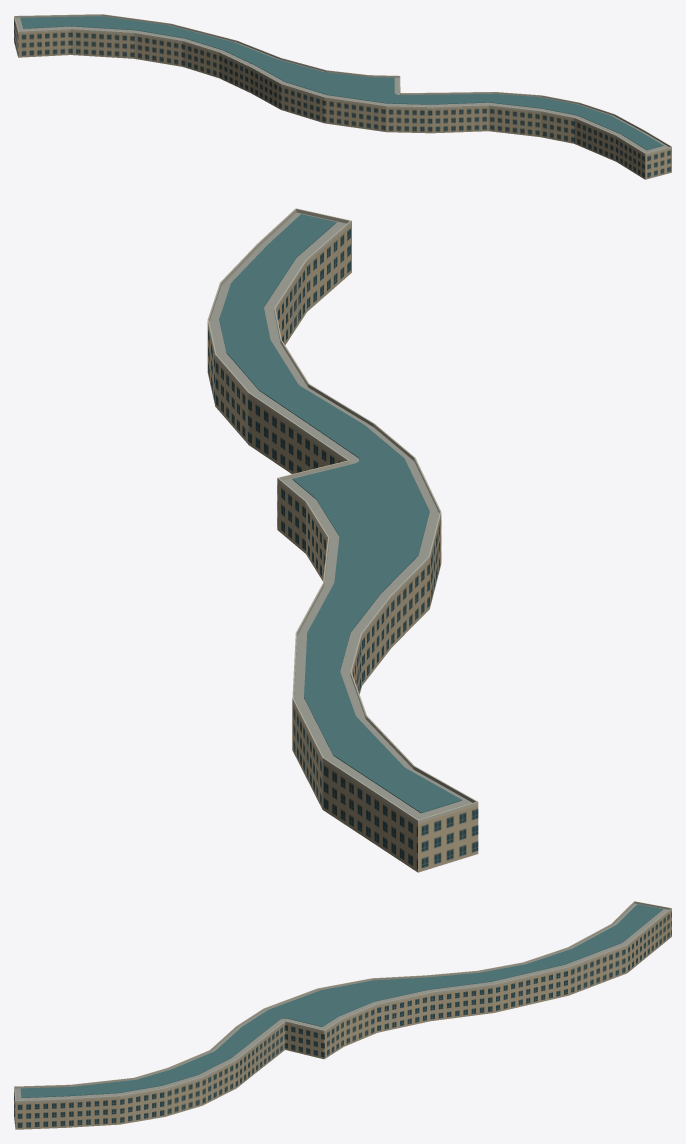
3 views of the same model, one above another, from view 1: azimuth 30°, elevation 25°; view 2: azimuth 150°, elevation 25°; view 3: azimuth 270°, elevation 25° (orthographic). The views are drawn at different scales.
Visible parts, largest first — view 1: B12_arcade, B12_arcade_canopy, B12_arcade_parapet; view 2: B12_arcade, B12_arcade_canopy, B12_arcade_parapet; view 3: B12_arcade, B12_arcade_canopy, B12_arcade_parapet.
Boxes of the visible parts, x1=… form: B12_arcade: x1=14, y1=16, x2=671, y2=179; B12_arcade_canopy: x1=20, y1=16, x2=663, y2=150; B12_arcade_parapet: x1=14, y1=14, x2=671, y2=155; B12_arcade: x1=207, y1=212, x2=478, y2=872; B12_arcade_canopy: x1=219, y1=214, x2=462, y2=813; B12_arcade_parapet: x1=207, y1=208, x2=478, y2=823; B12_arcade: x1=14, y1=903, x2=671, y2=1129; B12_arcade_canopy: x1=20, y1=904, x2=662, y2=1097; B12_arcade_parapet: x1=14, y1=901, x2=671, y2=1102.
Bounding box in the file's own units: 187 × 12.72 × 260.
4 materials, 1 textured.
